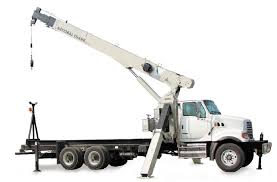crane: (30, 7, 199, 93)
truck: (14, 99, 271, 172)
